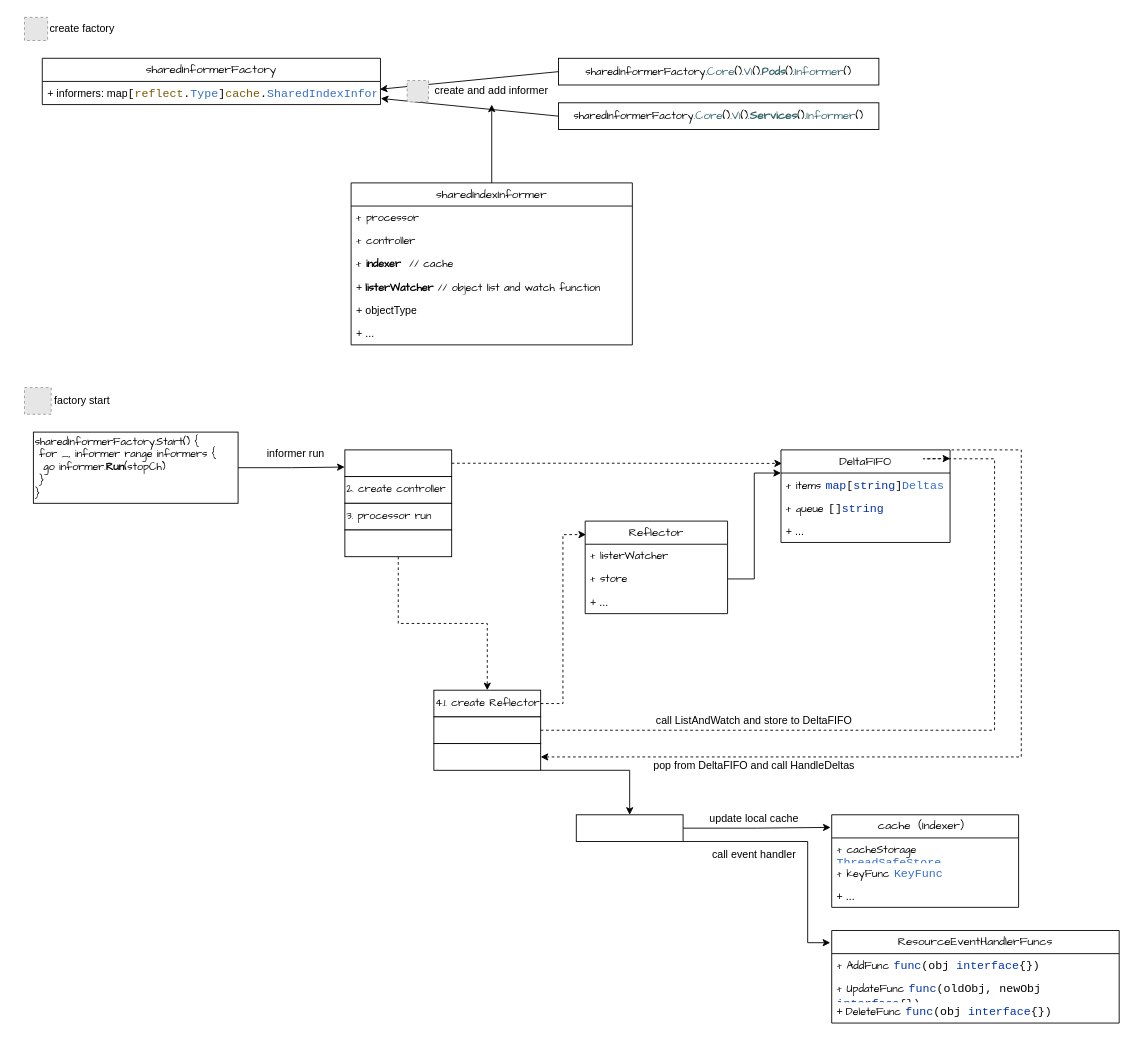
Some shapes in this 1135 by 1040 pixel diagram are drawn without their labels. Grey dashed boxes stand in for pictures. The centre of each missing label's shape, as x and y in pixels:
"1. create DeltaFIFO" belongs at point (398, 463).
"4. controller run" belongs at point (398, 543).
"4.2. Reflector run" belongs at point (487, 730).
"4.3. processLoop" belongs at point (487, 756).
"HandleDeltas" belongs at point (629, 827).
